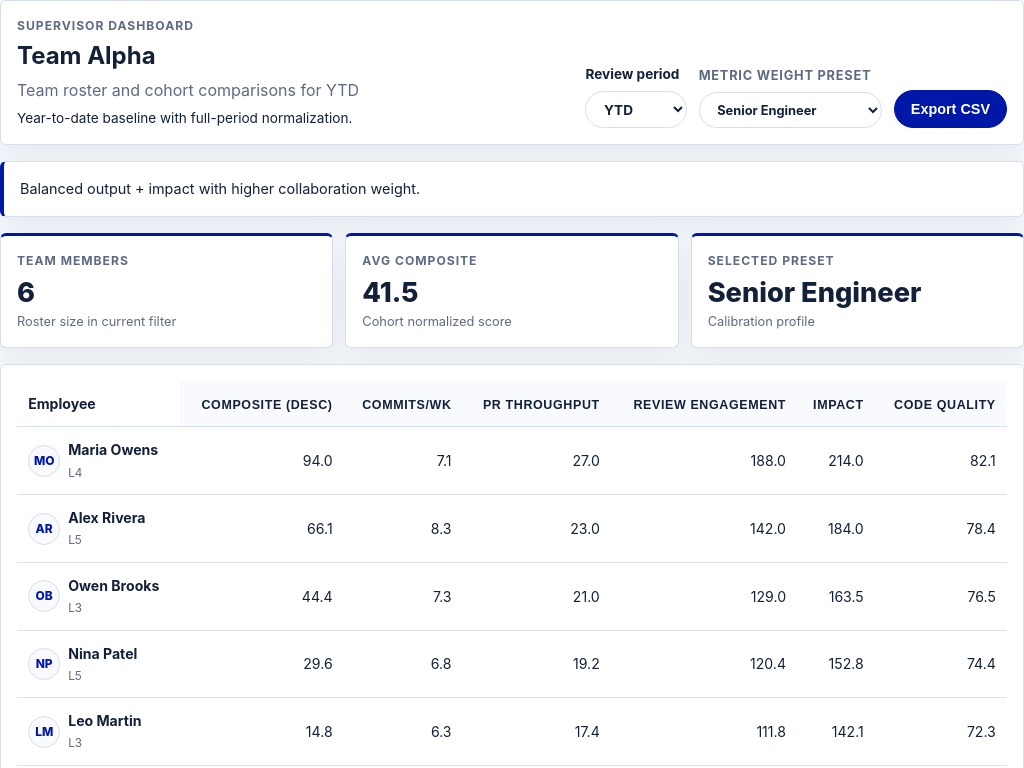
Test: Supervisor dashboard dropdown functionality › updates period description and average composite when review period changes
Select "Q" in the dropdown labelled "Review period" at (636, 110), box left=586, top=91, right=687, bottom=128
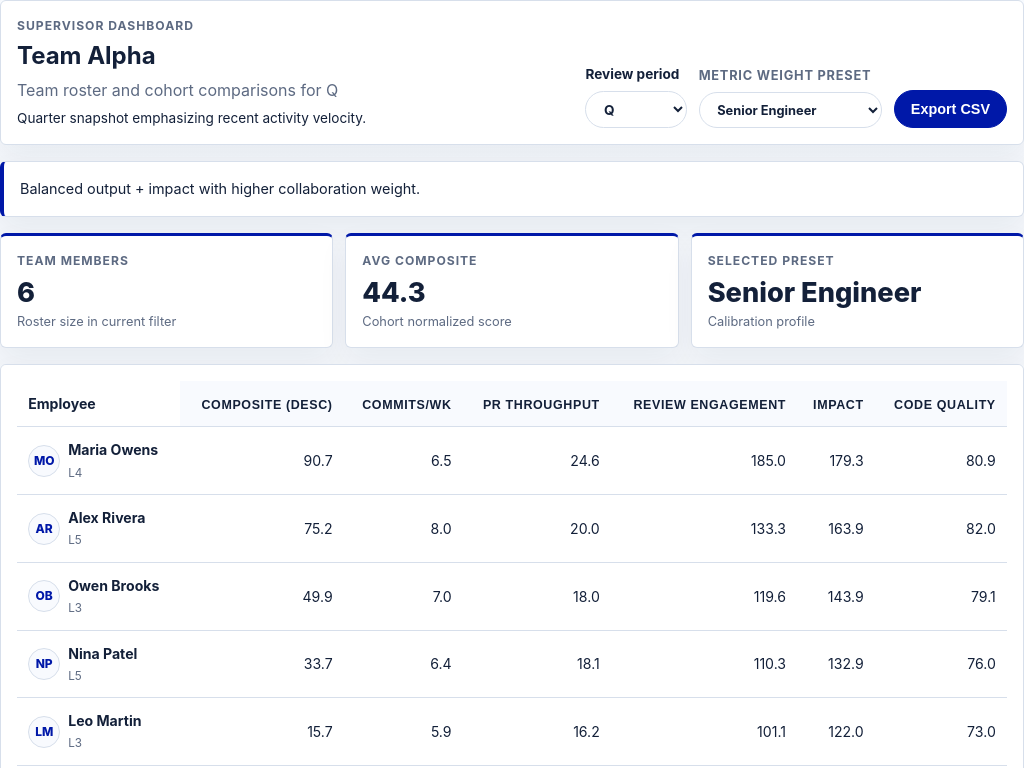
Check: the text with test id "period-description" shows "Quarter snapshot", box left=17, top=110, right=366, bottom=126
